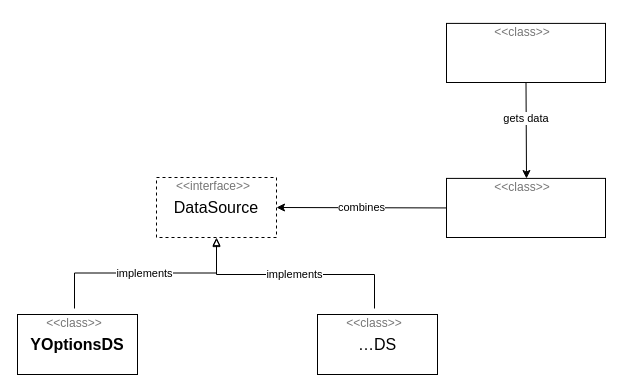
The diagram is 623 pixels wide and 392 high, and some of its shapes have lost their labels. The box of each missing label's shape, as (x1, y1, x2, y2) in pixels:
DSAggregator: (446, 177, 606, 238)
OptionsAnalyzer: (446, 22, 606, 82)
